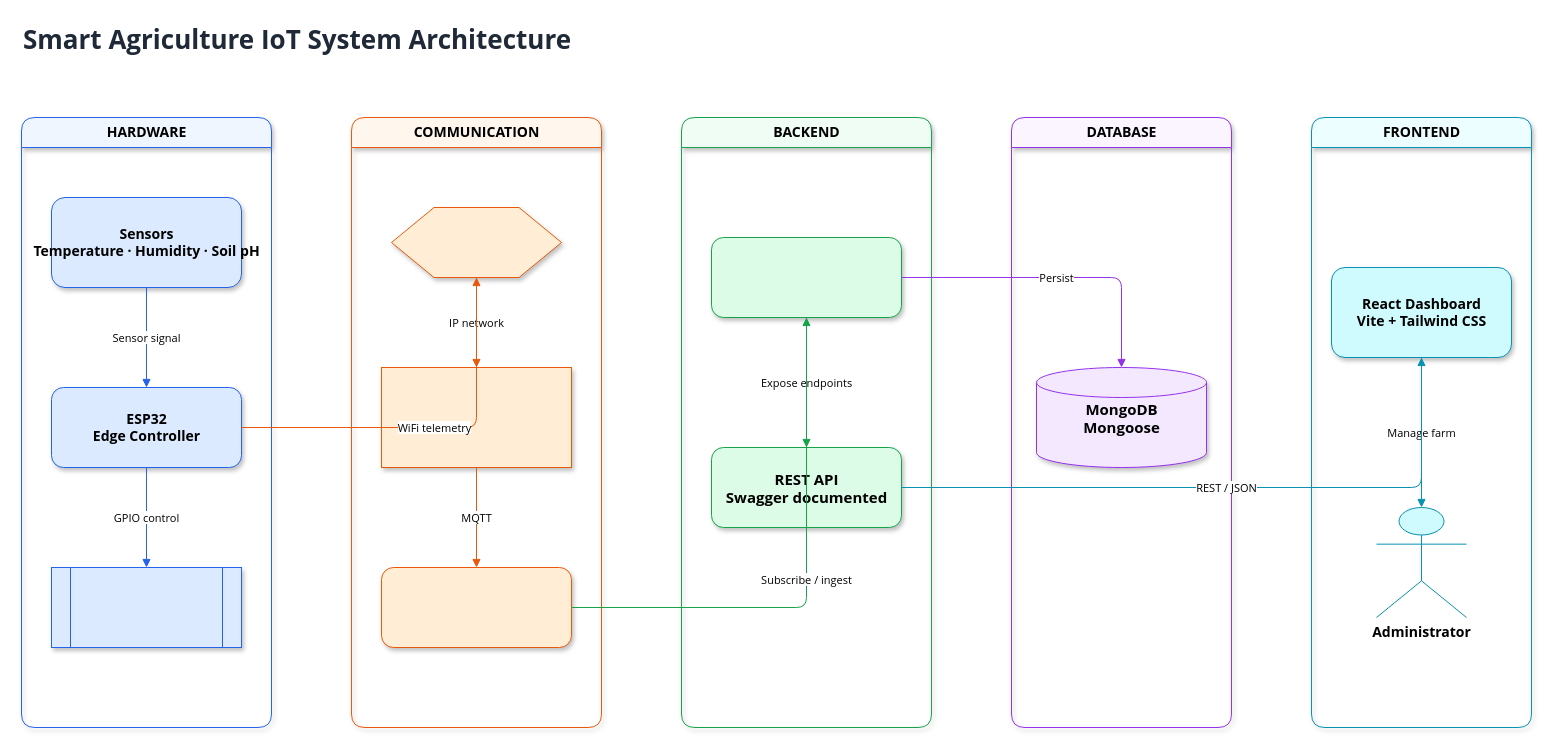
The diagram is 1555 pixels wide and 752 high, and some of its shapes have lost their labels. Each missing label, with the centre of its shape:
"Express Backend Node.js" belongs at (807,278).
"Internet" belongs at (477,418).
"MQTT Broker Pub/Sub" belongs at (477,608).
"Water Pump Relay controlled" belongs at (147,608).
"WiFi" belongs at (477,243).
